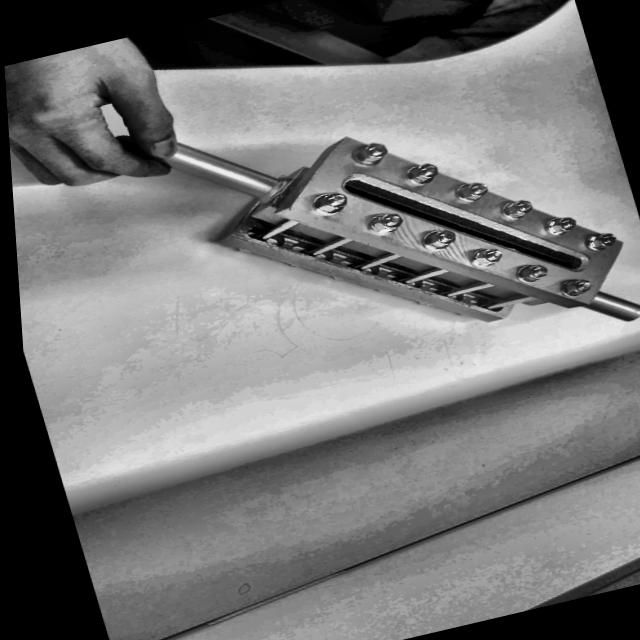ShuiWeiQi_12: (156, 45, 640, 419)
